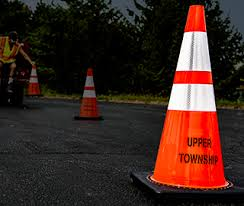cones: (132, 5, 244, 205), (72, 65, 103, 121), (24, 62, 43, 97)
